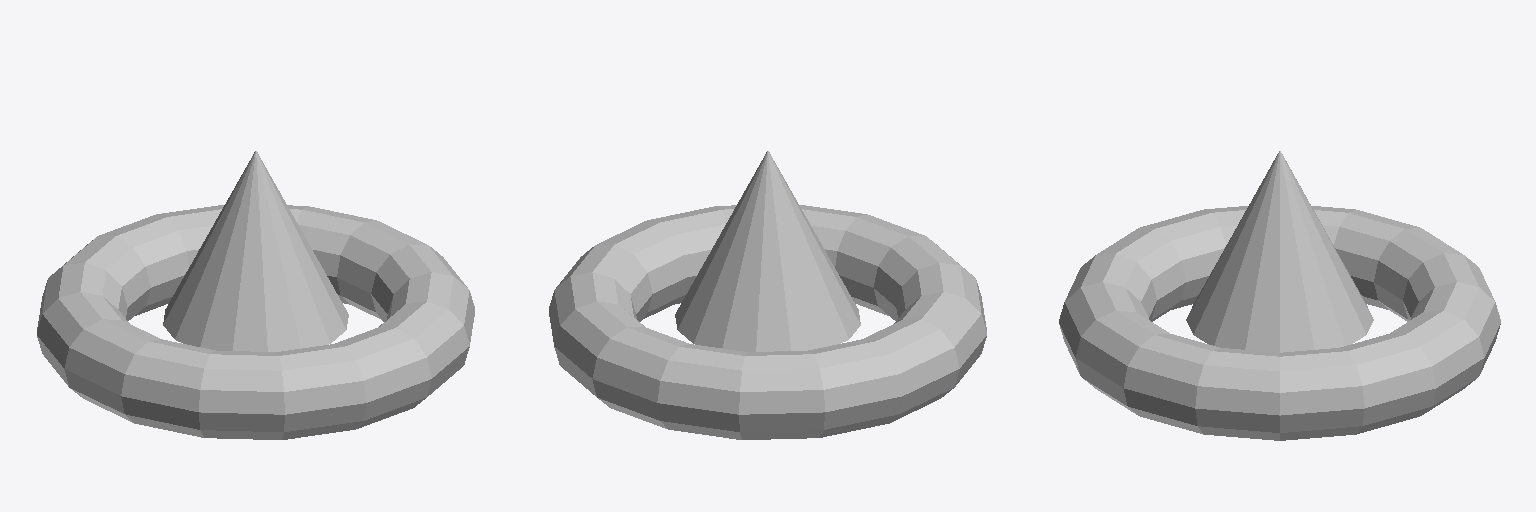
The model's file is torus and cone.obj.
3 renders of one model, left to right at view 1: azimuth 30°, elevation 25°; view 2: azimuth 150°, elevation 25°; view 3: azimuth 270°, elevation 25°, orthographic.
Visible parts, largest first — view 1: Torus.001, Cone; view 2: Torus.001, Cone; view 3: Torus.001, Cone.
Part boxes in pixels (left/top/right/bottom): Torus.001: left=37, top=205, right=474, bottom=439; Cone: left=163, top=151, right=348, bottom=351; Torus.001: left=549, top=205, right=986, bottom=439; Cone: left=675, top=151, right=860, bottom=351; Torus.001: left=1059, top=206, right=1500, bottom=440; Cone: left=1186, top=151, right=1373, bottom=352.
Bounding box in the file's own units: 8.1 × 4.28 × 8.1.